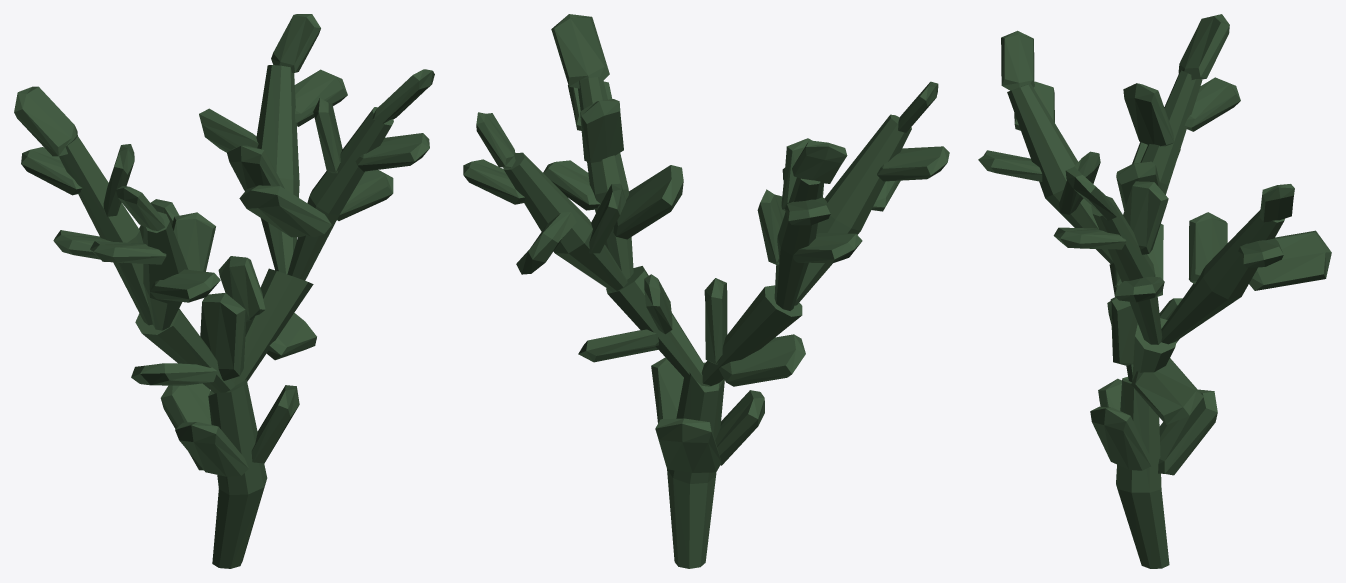
File: Cactus05.fbx
3 renders of one model, left to right at view 1: azimuth 30°, elevation 25°; view 2: azimuth 150°, elevation 25°; view 3: azimuth 270°, elevation 25°, orthographic. The views are drawn at different scales.
Parts seen in each view (by area): view 1: polySurface651; view 2: polySurface651; view 3: polySurface651.
Boxes of the visible parts, <box> form: polySurface651: <box>14,14,434,568</box>; polySurface651: <box>463,14,949,568</box>; polySurface651: <box>978,14,1331,568</box>.
Bounding box in the file's own units: 105 × 132 × 90.68.
